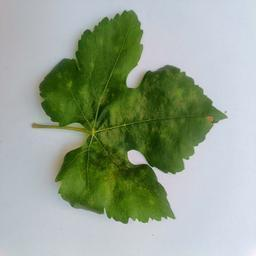Powdery-Mildew: (95, 94, 147, 144), (88, 164, 121, 200), (169, 84, 201, 115), (197, 110, 214, 127), (127, 199, 144, 216), (78, 82, 94, 98)
